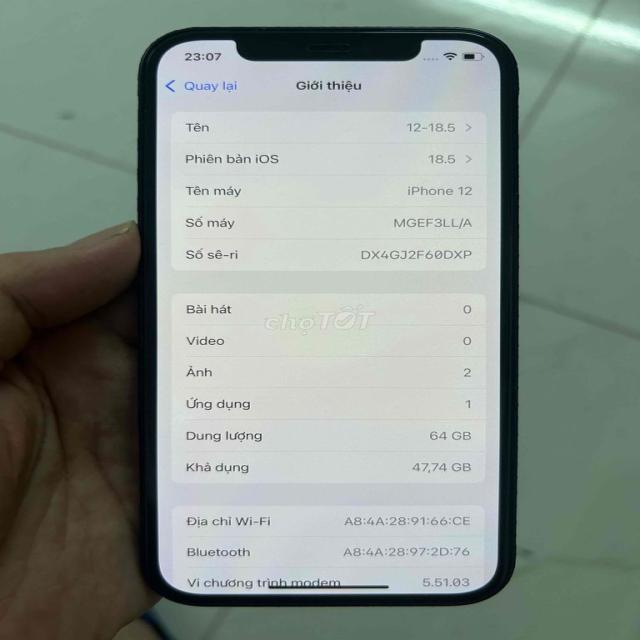gen_12_13: (125, 21, 528, 620)
